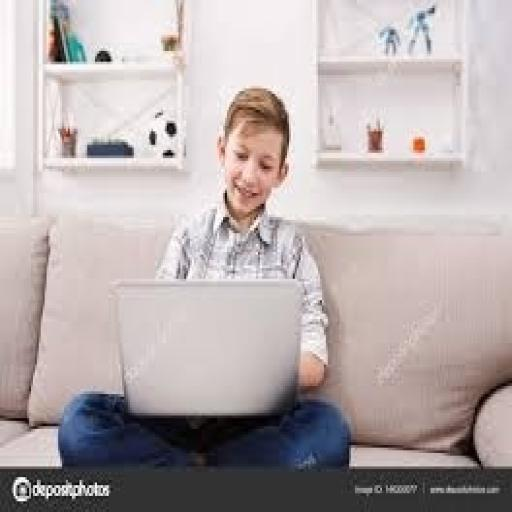using_laptop: (108, 276, 302, 421)
